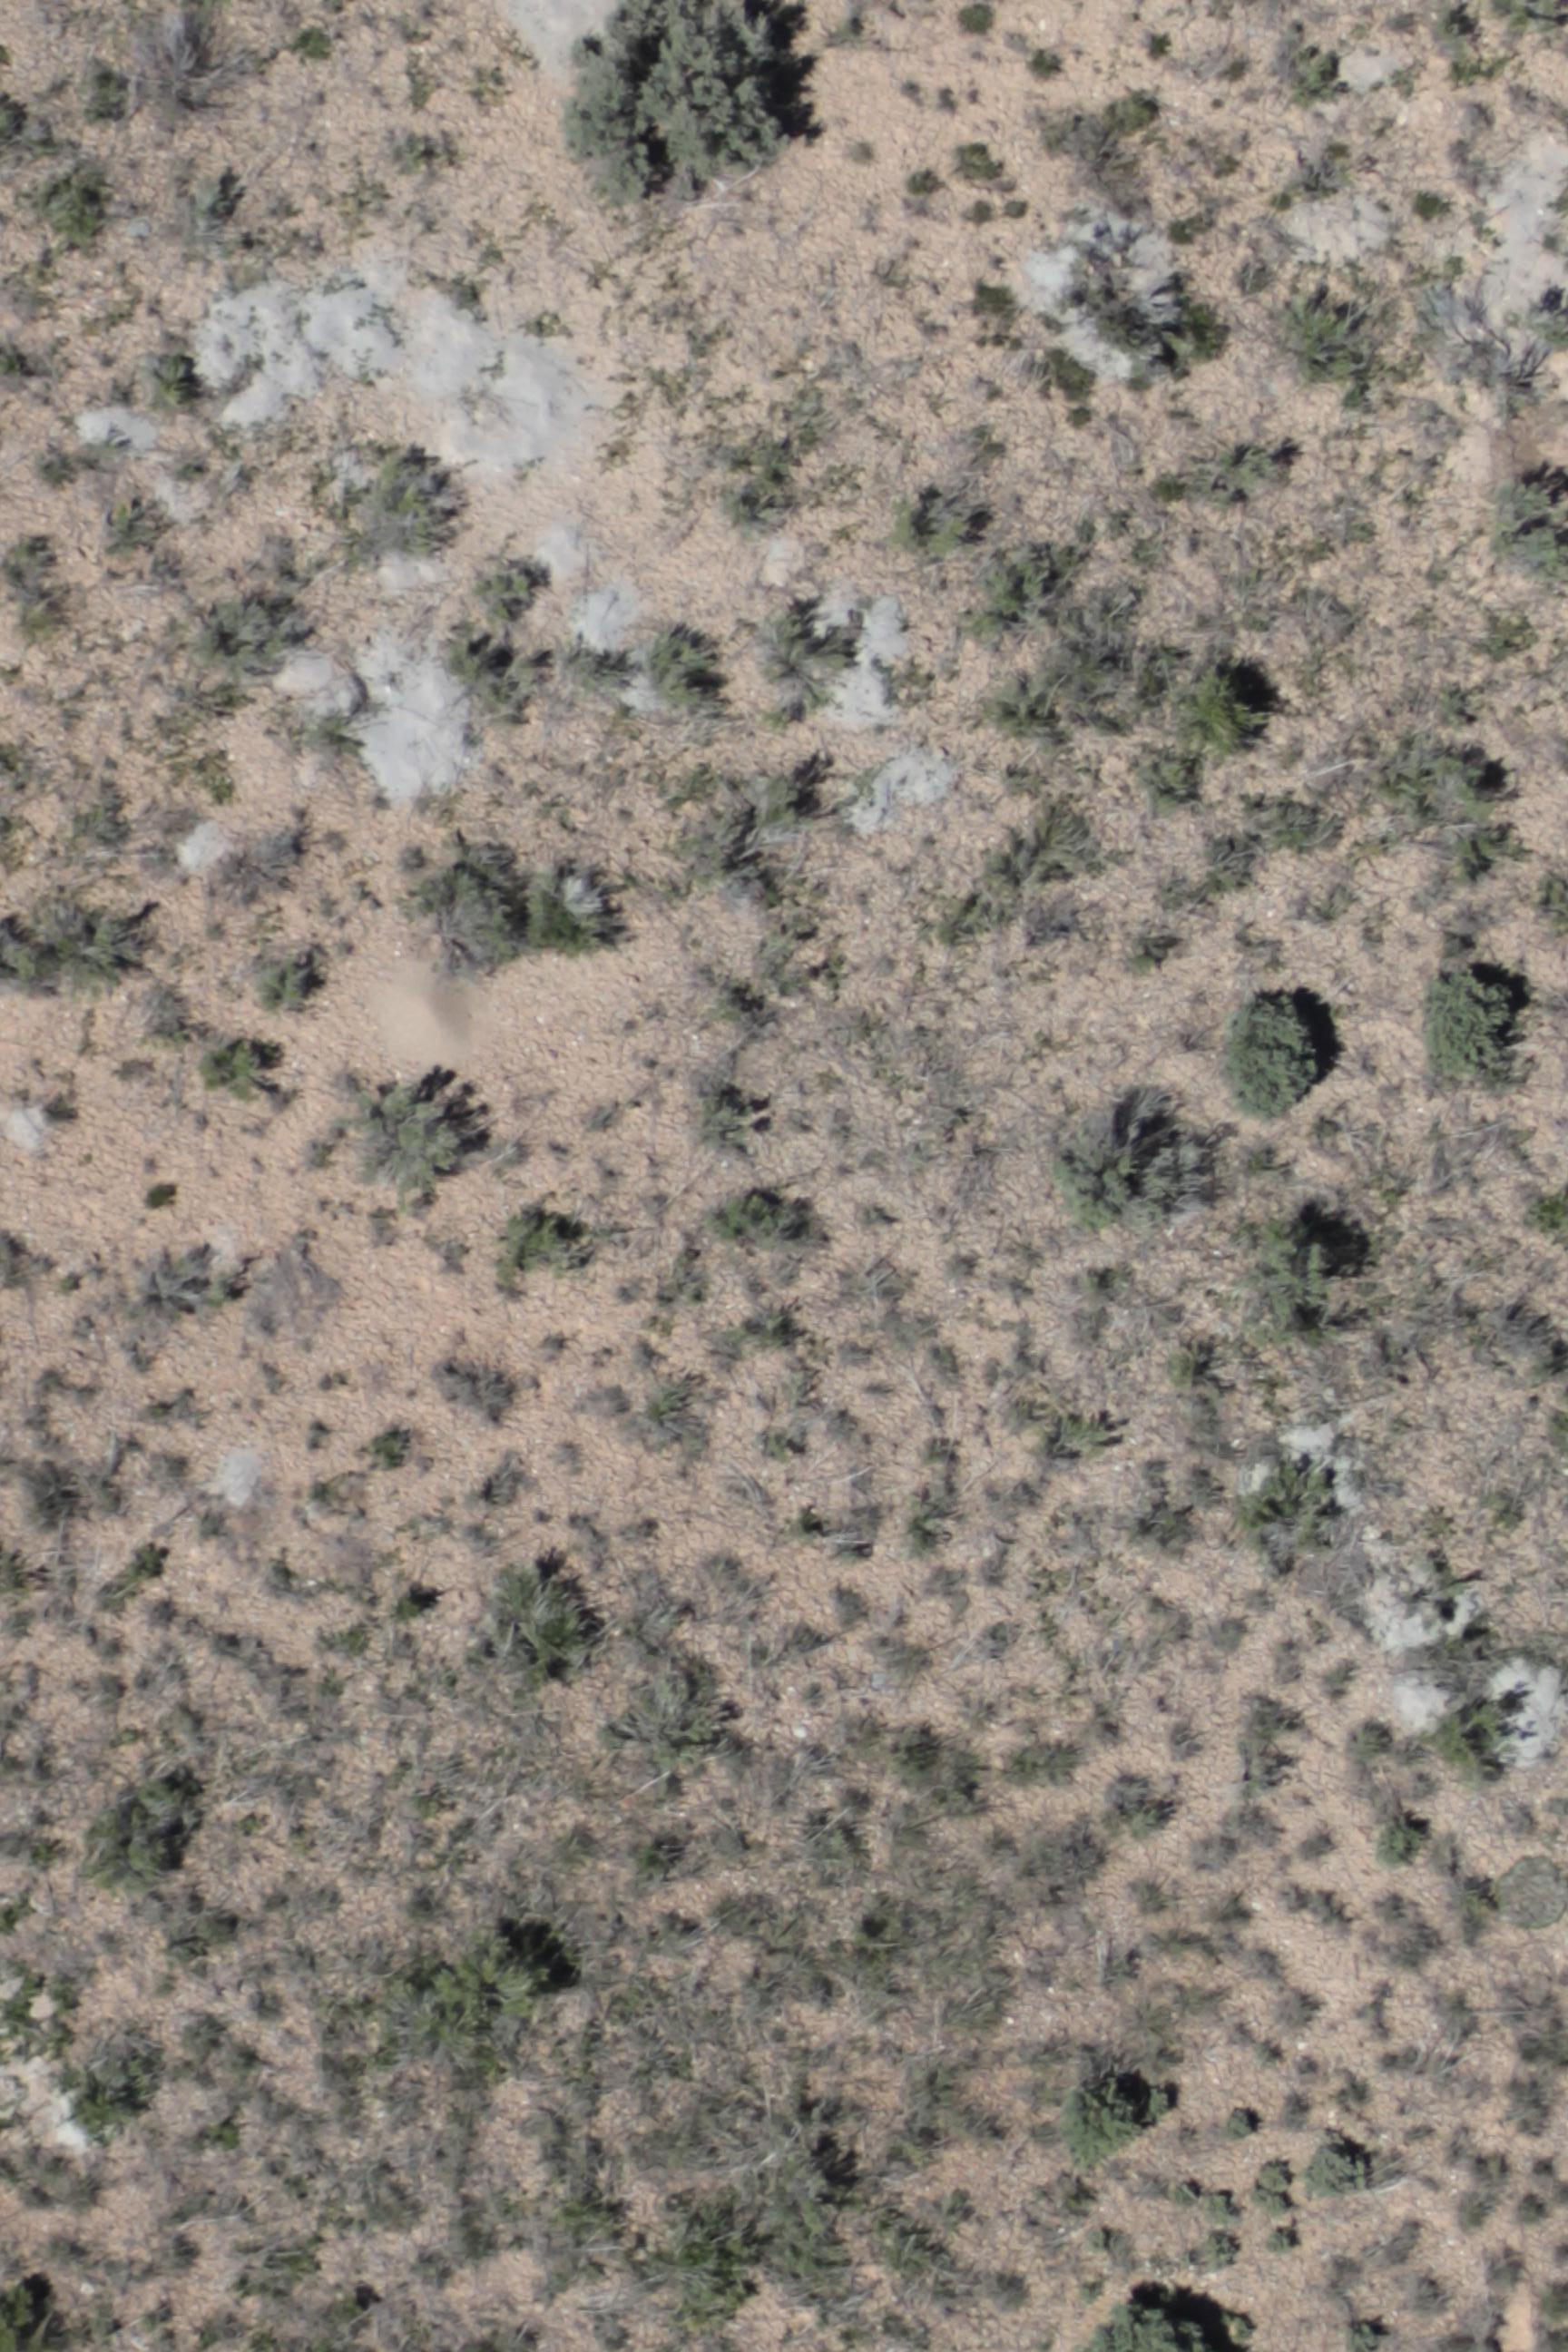burrow: (350, 931, 486, 1076)
